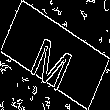M_NE: (29, 22, 81, 88)
